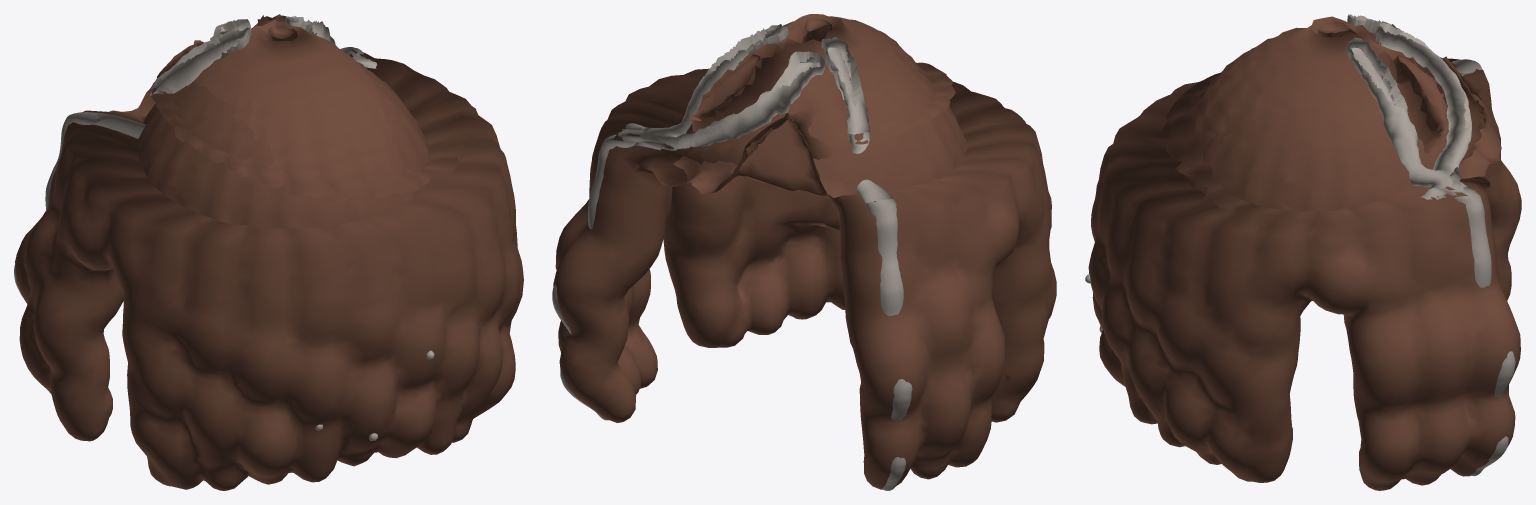
File: hair_bob_f.glb
3 renders of one model, left to right at view 1: azimuth 30°, elevation 25°; view 2: azimuth 150°, elevation 25°; view 3: azimuth 270°, elevation 25°, orthographic.
Parts seen in each view (by area): view 1: Acc_hair_bob_HairBob, Acc_hair_bob_HairBobGrey; view 2: Acc_hair_bob_HairBob, Acc_hair_bob_HairBobGrey; view 3: Acc_hair_bob_HairBob, Acc_hair_bob_HairBobGrey.
Boxes of the visible parts, left/top/right/bottom form: Acc_hair_bob_HairBob: left=15, top=14, right=523, bottom=490; Acc_hair_bob_HairBobGrey: left=14, top=16, right=434, bottom=440; Acc_hair_bob_HairBob: left=553, top=14, right=1056, bottom=489; Acc_hair_bob_HairBobGrey: left=552, top=24, right=912, bottom=490; Acc_hair_bob_HairBob: left=1088, top=16, right=1521, bottom=490; Acc_hair_bob_HairBobGrey: left=1085, top=14, right=1515, bottom=476.
Size of the model in its own units: 0.5288 by 0.4624 by 0.4704.
